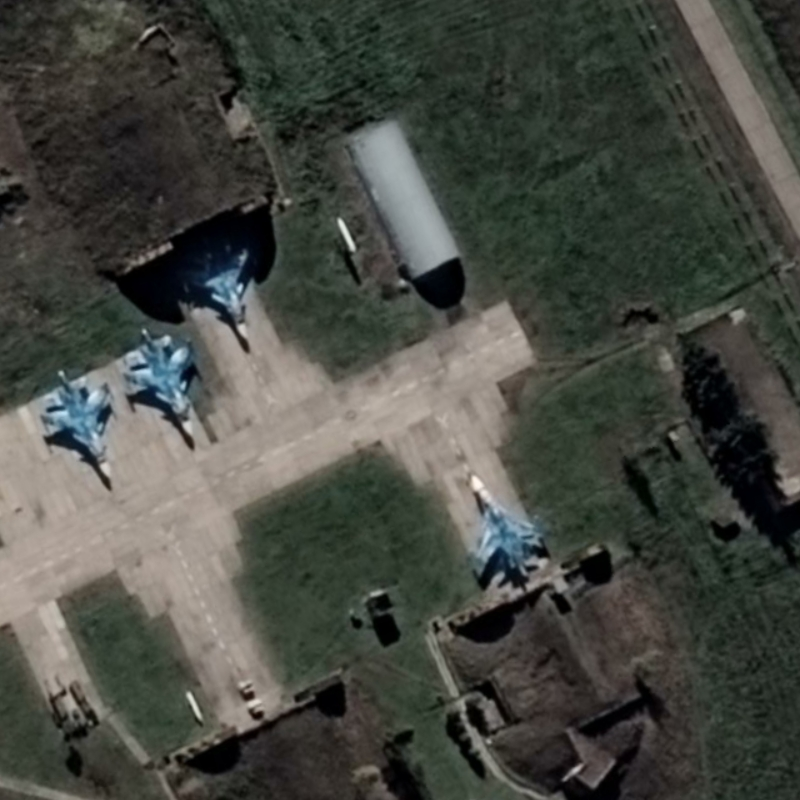A19: (466, 473, 556, 580), (118, 326, 201, 439), (39, 368, 118, 480), (175, 238, 260, 341)
